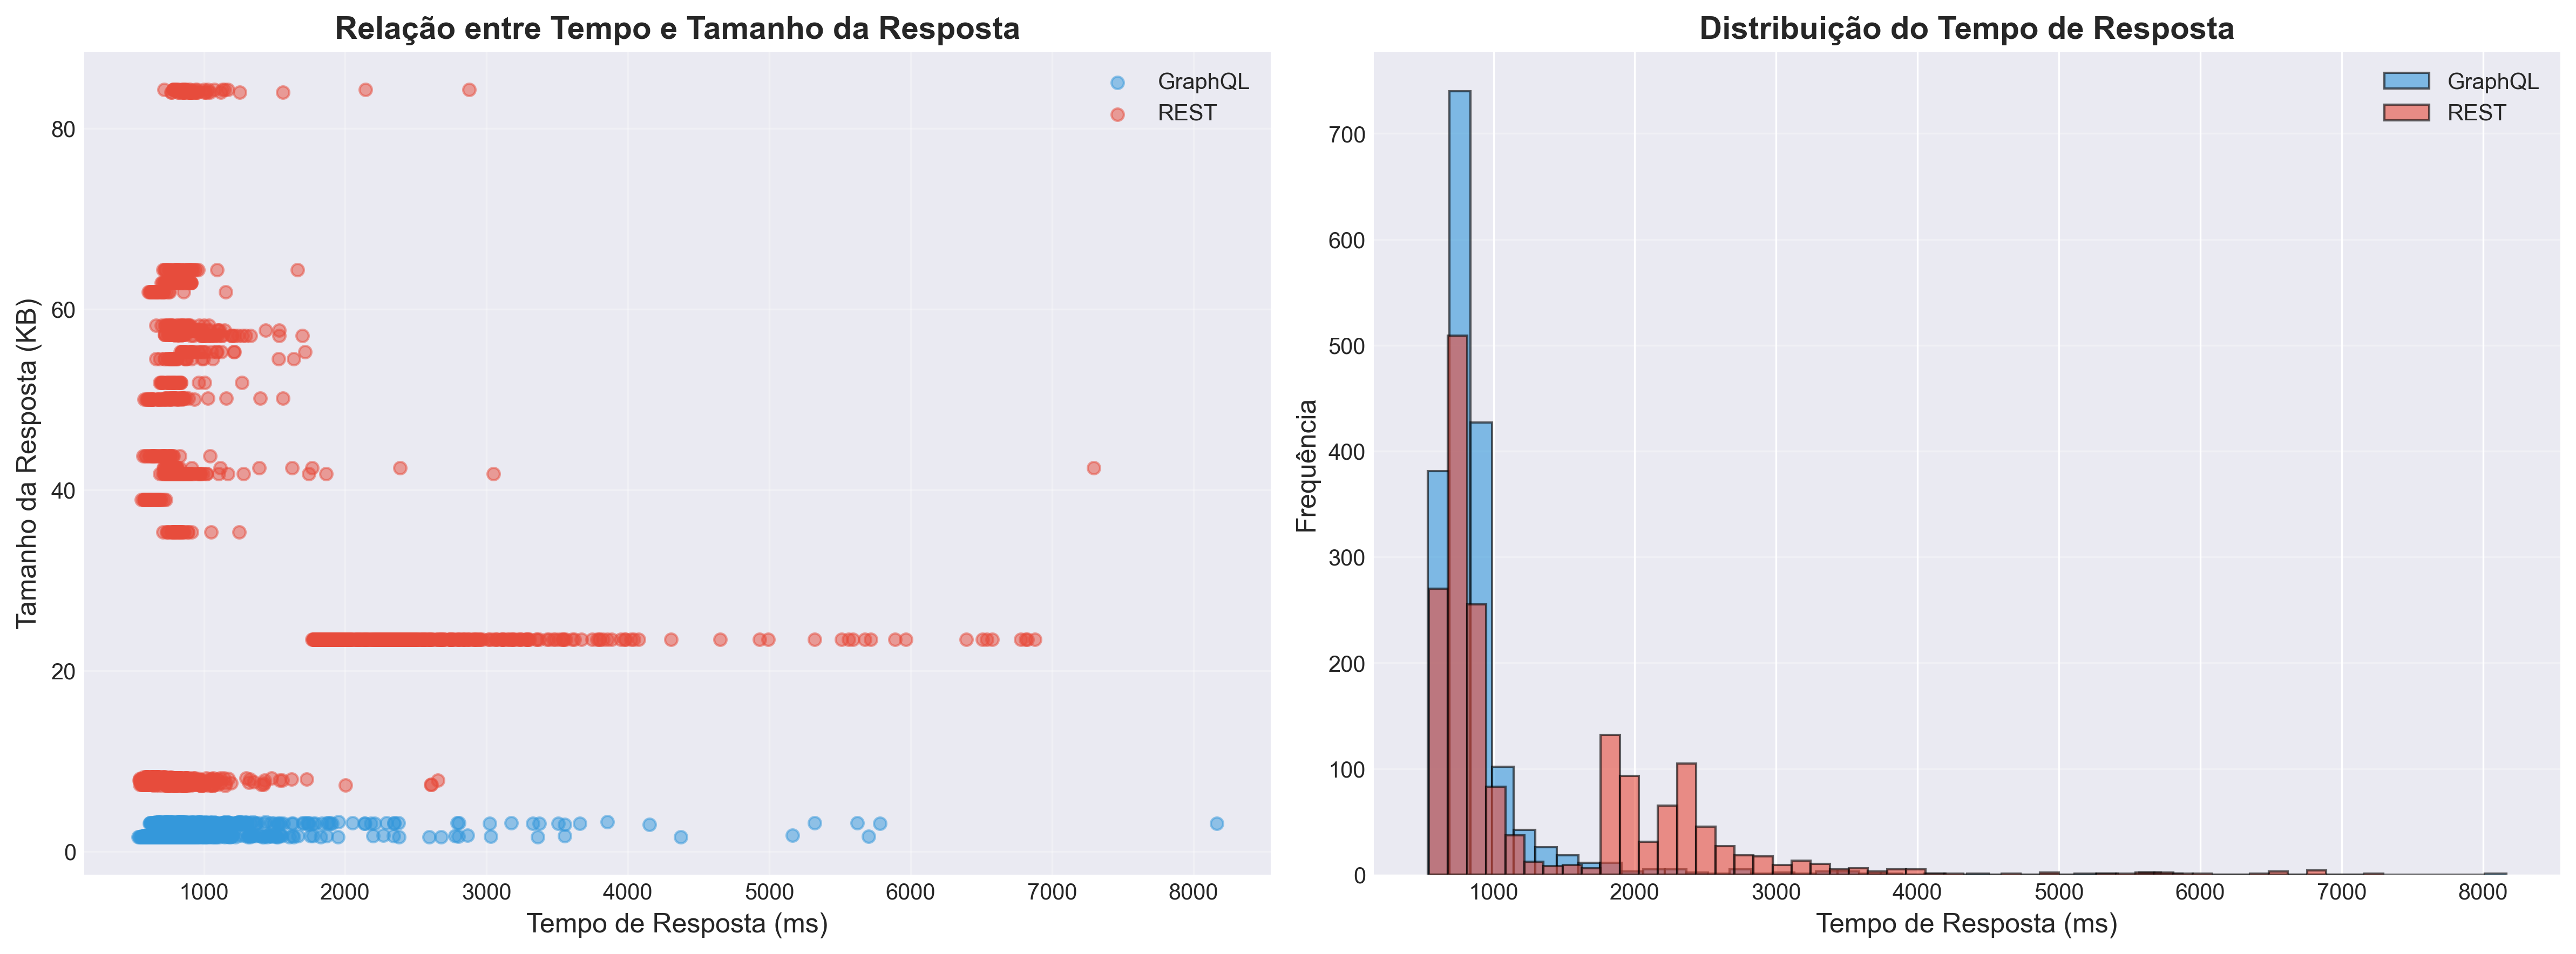

The page's visual inventory and layout, read from the dashboard file:
{"tool":"powerbi","page":{"name":"Comparação","canvas":[1280,720],"ordinal":2},"visuals":[{"type":"scatterChart","fields":{"Y":["experiment_data.response_size_bytes"],"Series":["experiment_data.api_type"],"X":["experiment_data.response_time_ms"]},"box":[16.5,74.1,536.5,367.8],"z":0},{"type":"columnChart","fields":{"Series":["experiment_data.api_type"],"Y":["experiment_data.Count of response_time_ms"],"Category":["experiment_data.response_time_ms (compartimentos)"]},"box":[654.5,218.2,625.7,380.1],"z":1000}]}

Visuals, with their boxes on the page's 1280x720 design canvas (x1, y1, x2, y2). These are canvas units, not pixel positions in the 2576x954 screenshot, which may show the page scaled, cropped or inside an application window:
scatterChart - experiment_data.response_size_bytes x experiment_data.api_type: <bbox>16, 74, 553, 442</bbox>
columnChart - experiment_data.api_type x experiment_data.Count of response_time_ms: <bbox>654, 218, 1280, 598</bbox>
